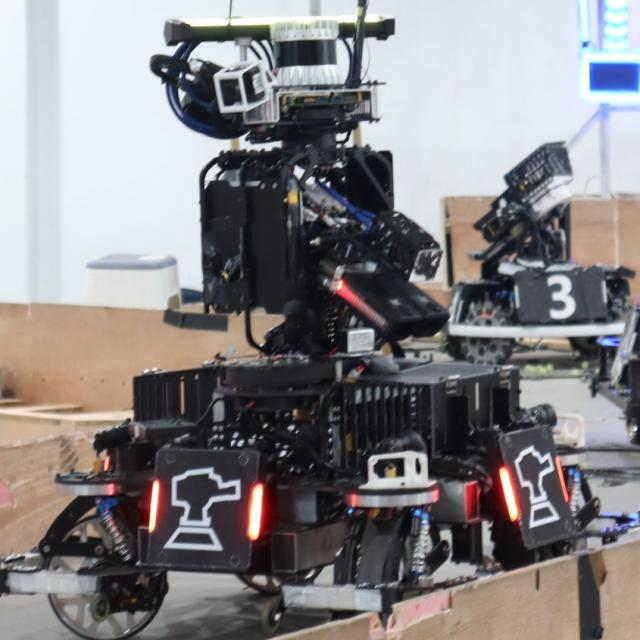Rs: (147, 453, 263, 563), (497, 434, 572, 534)
